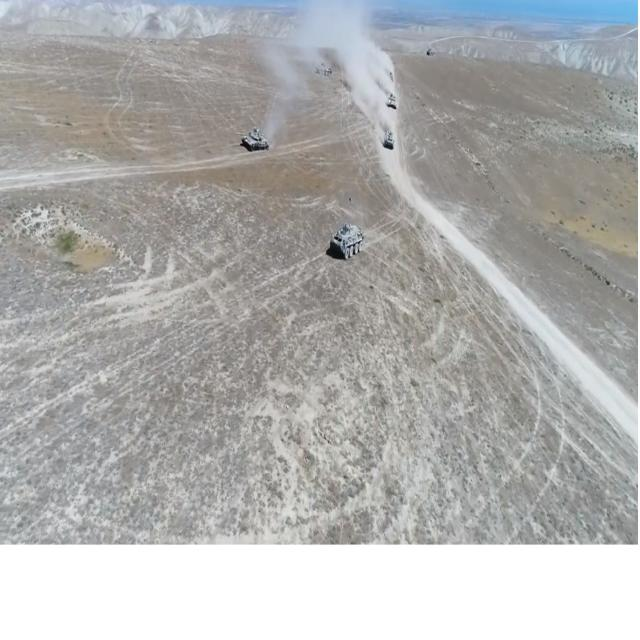tank: (327, 220, 363, 262), (233, 126, 270, 155), (382, 128, 397, 150)
